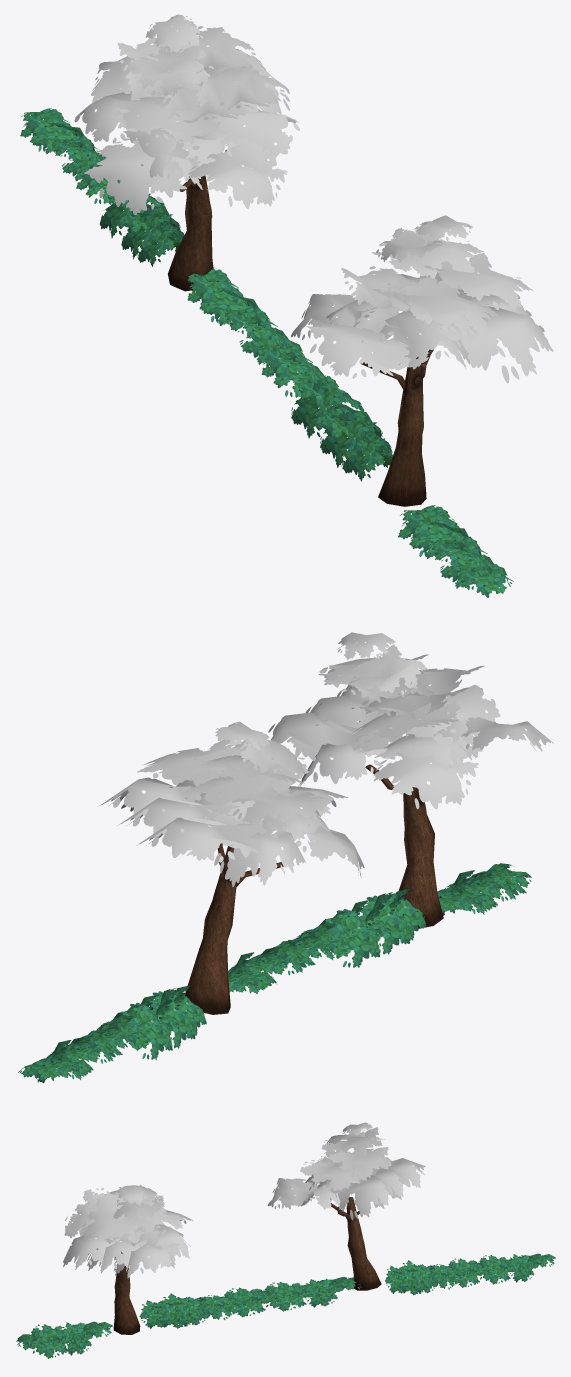
File: EntrancePlants.fbx
3 views of the same model, one above another, from view 1: azimuth 30°, elevation 25°; view 2: azimuth 150°, elevation 25°; view 3: azimuth 270°, elevation 25° (orthographic). The views are drawn at different scales.
Parts seen in each view (by area): view 1: Tree_Leaves_040, Tree_Leaves_039, Tree_Leaves_042, Tree_Leaves_041, Tree_Leaves_043, Tree_LP019, Tree_LP020; view 2: Tree_Leaves_039, Tree_Leaves_040, Tree_Leaves_042, Tree_Leaves_041, Tree_LP020, Tree_LP019, Tree_Leaves_043; view 3: Tree_Leaves_039, Tree_Leaves_040, Tree_Leaves_042, Tree_Leaves_041, Tree_Leaves_043, Tree_LP020, Tree_LP019.
Part boxes in pixels (left/top/right/bottom): Tree_Leaves_040: left=74, top=14, right=299, bottom=215; Tree_Leaves_039: left=291, top=215, right=553, bottom=383; Tree_Leaves_042: left=187, top=267, right=392, bottom=481; Tree_Leaves_041: left=20, top=108, right=184, bottom=266; Tree_Leaves_043: left=398, top=505, right=513, bottom=597; Tree_LP019: left=360, top=349, right=433, bottom=506; Tree_LP020: left=168, top=150, right=226, bottom=291; Tree_Leaves_039: left=268, top=632, right=553, bottom=809; Tree_Leaves_040: left=98, top=721, right=364, bottom=886; Tree_Leaves_042: left=228, top=889, right=426, bottom=994; Tree_Leaves_041: left=18, top=985, right=206, bottom=1083; Tree_LP020: left=185, top=843, right=283, bottom=1014; Tree_LP019: left=365, top=764, right=443, bottom=928; Tree_Leaves_043: left=437, top=863, right=531, bottom=915; Tree_Leaves_039: left=63, top=1184, right=193, bottom=1278; Tree_Leaves_040: left=267, top=1122, right=425, bottom=1220; Tree_Leaves_042: left=139, top=1277, right=361, bottom=1328; Tree_Leaves_041: left=385, top=1253, right=555, bottom=1295; Tree_Leaves_043: left=16, top=1321, right=112, bottom=1358; Tree_LP020: left=330, top=1197, right=381, bottom=1290; Tree_LP019: left=113, top=1252, right=140, bottom=1334.
Bounding box in the file's own units: 8.42 × 11.21 × 24.84.
